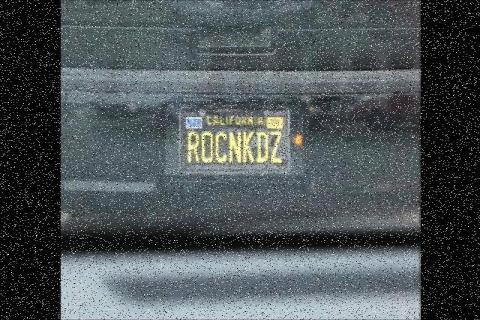LicensePlate: (181, 107, 289, 175)
